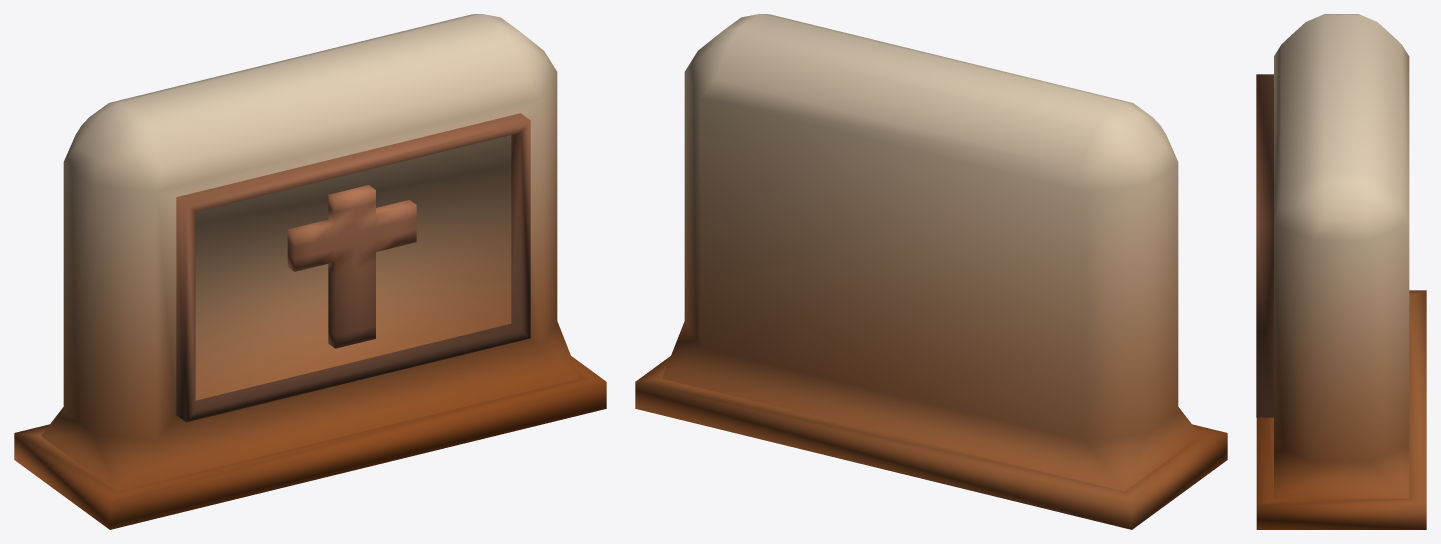
3 renders of one model, left to right at view 1: azimuth 30°, elevation 25°; view 2: azimuth 150°, elevation 25°; view 3: azimuth 270°, elevation 25°, orthographic. The views are drawn at different scales.
Parts seen in each view (by area): view 1: Cube, Cube.001; view 2: Cube; view 3: Cube.
Part boxes in pixels (x1,y1,x2,y2): Cube: [14, 14, 606, 529]; Cube.001: [287, 185, 416, 348]; Cube: [635, 14, 1227, 529]; Cube: [1256, 14, 1426, 529].
Bounding box in the file's own units: 200 × 142 × 66.76.
Materials: 1 (1 with a texture image).
